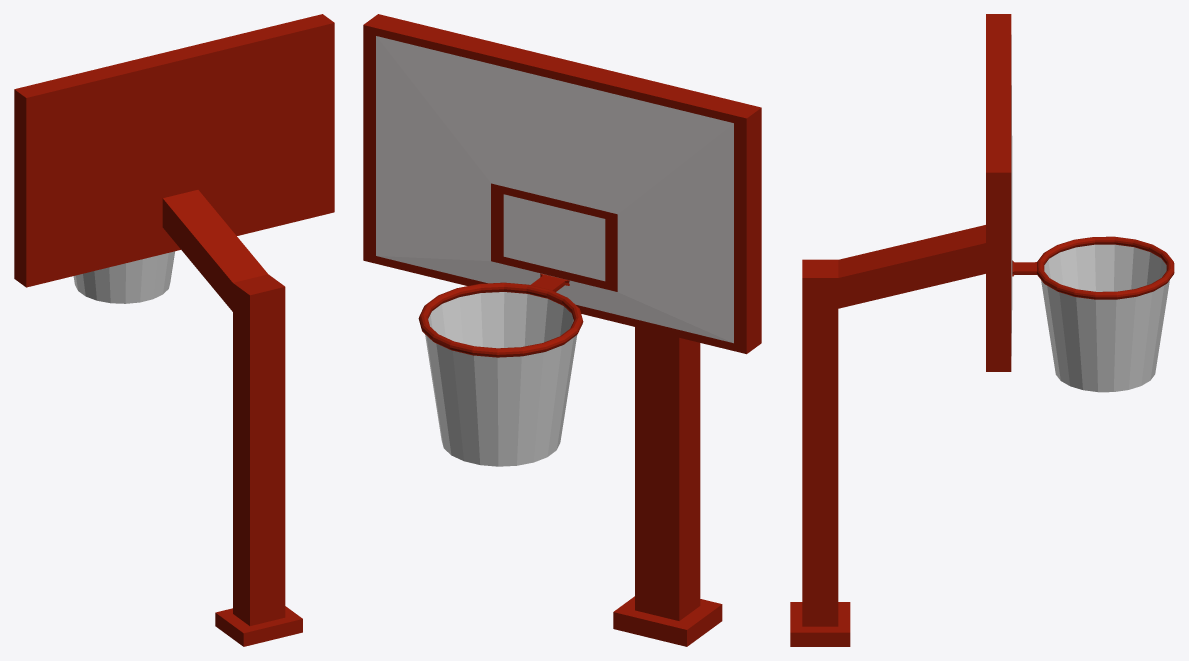
Rendered from basketball_panel.fbx.
The picture shows the model from 3 angles, left to right: view 1: azimuth 30°, elevation 25°; view 2: azimuth 150°, elevation 25°; view 3: azimuth 270°, elevation 25°; orthographic projection. The views are drawn at different scales.
Parts seen in each view (by area): view 1: basketball_panel; view 2: basketball_panel; view 3: basketball_panel.
Boxes of the visible parts, x1,y1,x2,y2 form: basketball_panel: (14, 14, 334, 646); basketball_panel: (363, 14, 761, 646); basketball_panel: (790, 14, 1174, 646).
Bounding box in the file's own units: 3.41 × 5.4 × 3.49.
